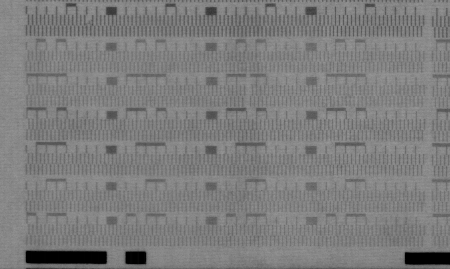Broken hole: (241, 85, 255, 108), (82, 14, 96, 27)
